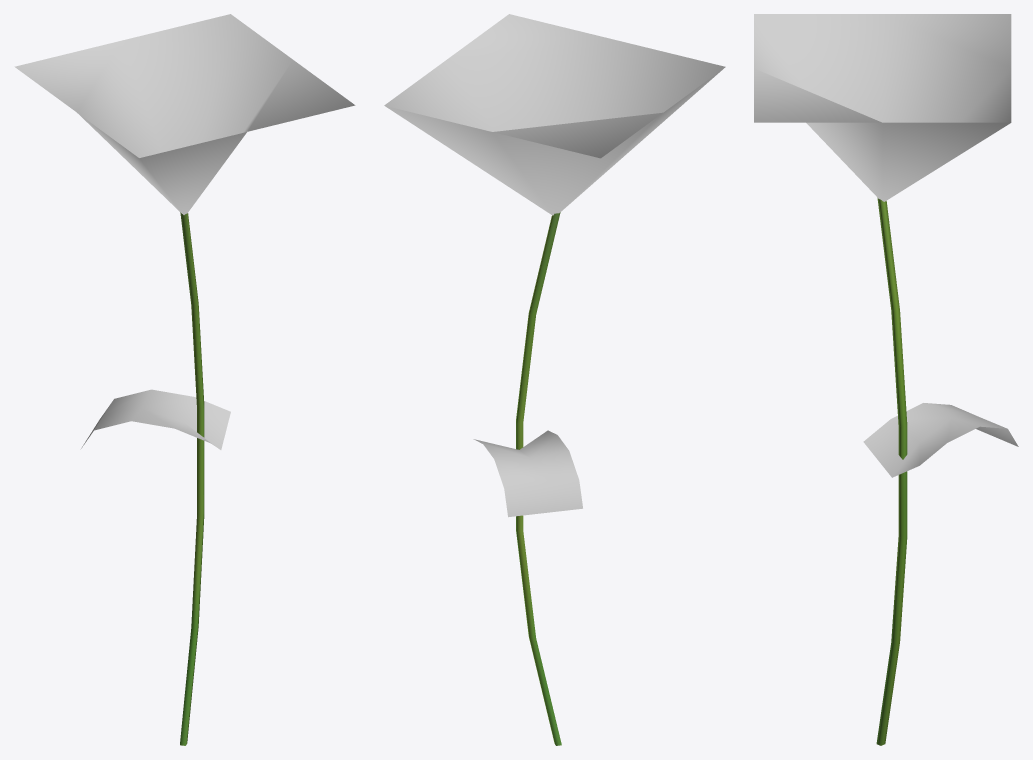
The model's file is SM_flower_05.fbx.
3 views of the same model, side by side, from view 1: azimuth 30°, elevation 25°; view 2: azimuth 150°, elevation 25°; view 3: azimuth 270°, elevation 25° (orthographic). The views are drawn at different scales.
Visible parts, largest first — view 1: SM_flower_05; view 2: SM_flower_05; view 3: SM_flower_05.
Boxes of the visible parts, x1,y1,x2,y2 form: SM_flower_05: (14, 14, 355, 745); SM_flower_05: (384, 14, 725, 745); SM_flower_05: (754, 14, 1018, 745).
Size of the model in its own units: 22.63 by 65.67 by 23.29.
